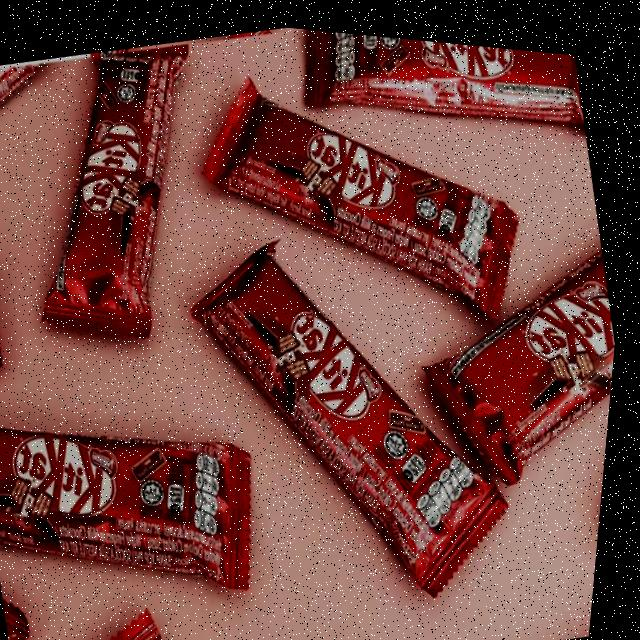kitkat: (161, 183, 551, 635), (173, 15, 548, 359), (0, 28, 253, 369), (0, 360, 292, 637), (401, 221, 627, 496), (281, 22, 591, 180)
